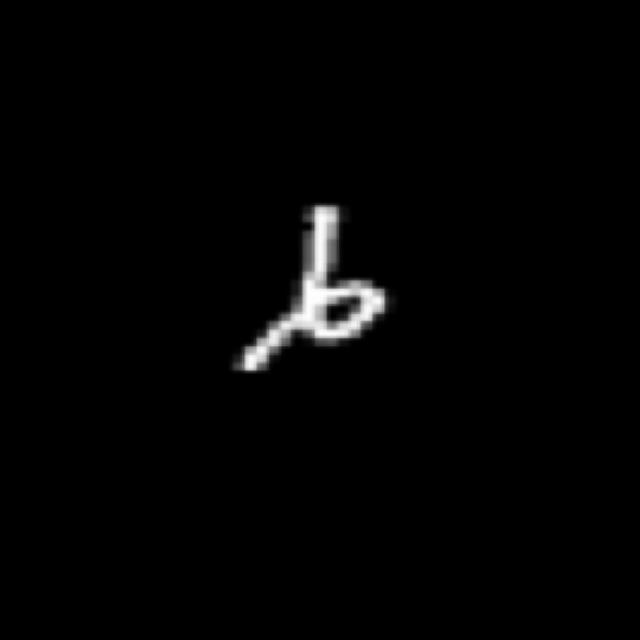six -6-: (236, 196, 390, 379)
